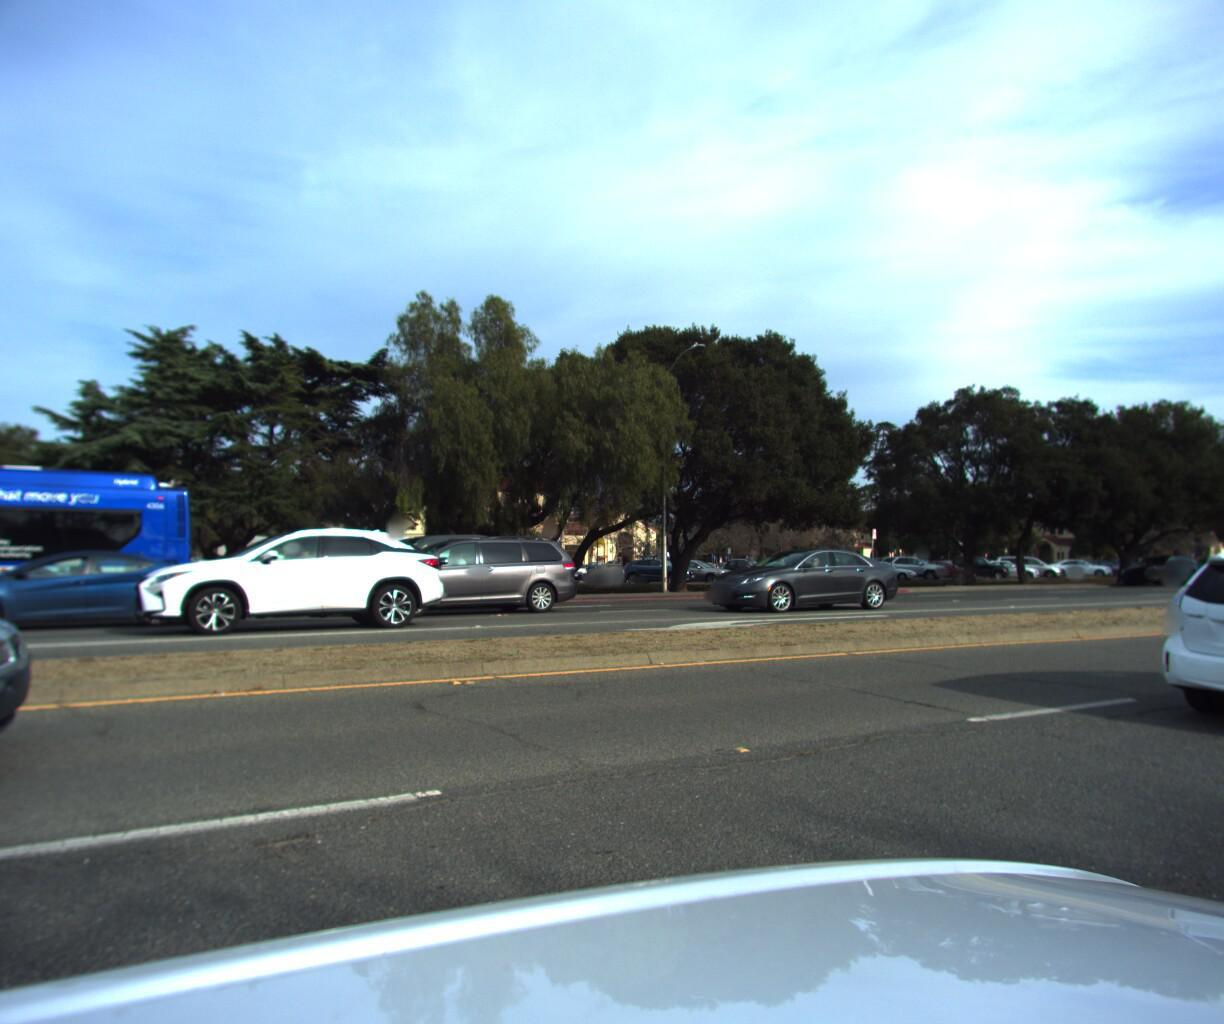bus: (0, 396, 215, 685)
car: (112, 513, 467, 647), (0, 435, 66, 990), (340, 525, 594, 619), (322, 527, 571, 618), (0, 535, 230, 629), (1135, 534, 1224, 768), (687, 541, 913, 612), (1109, 548, 1203, 583)
